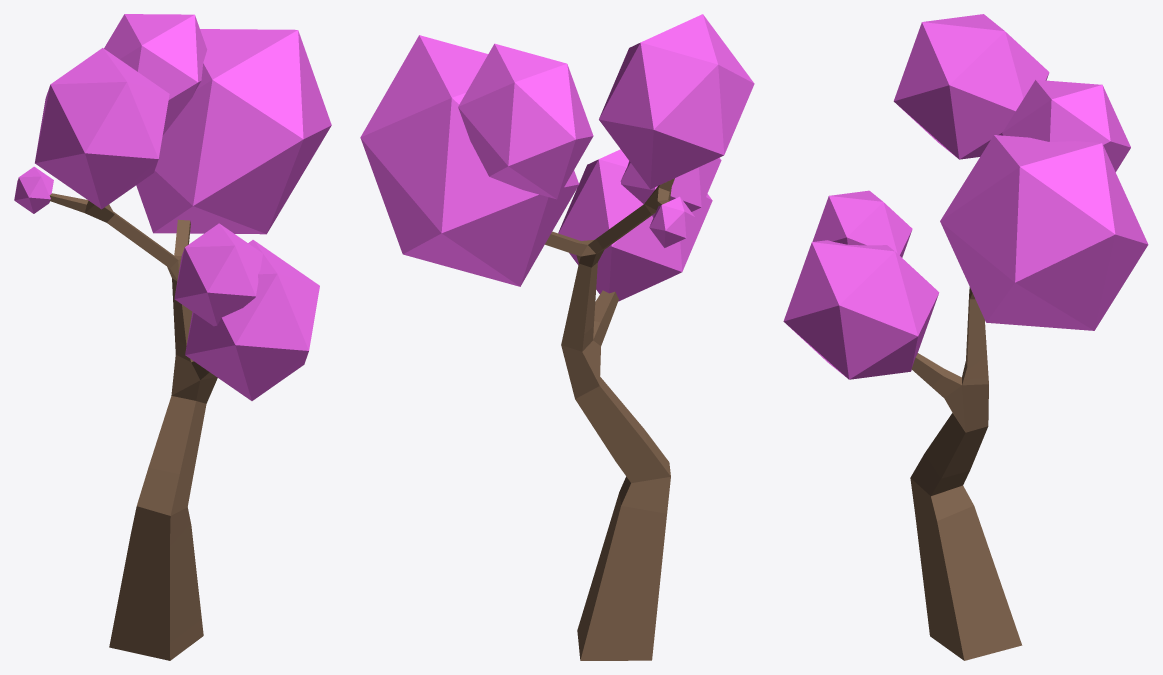
The model's file is Tree 1.fbx.
3 renders of one model, left to right at view 1: azimuth 30°, elevation 25°; view 2: azimuth 150°, elevation 25°; view 3: azimuth 270°, elevation 25°, orthographic. The views are drawn at different scales.
Visible parts, largest first — view 1: Street Tree 1; view 2: Street Tree 1; view 3: Street Tree 1.
Part boxes in pixels (left/top/right/bottom): Street Tree 1: left=14, top=14, right=331, bottom=660; Street Tree 1: left=360, top=14, right=754, bottom=660; Street Tree 1: left=783, top=14, right=1148, bottom=660.
Size of the model in its own units: 244 by 450 by 252.
Materials: 1 (1 with a texture image).
